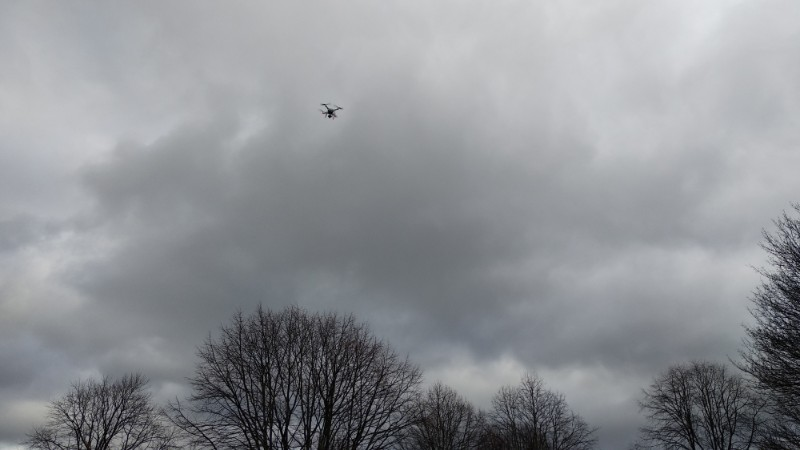drone: (320, 102, 345, 119)
